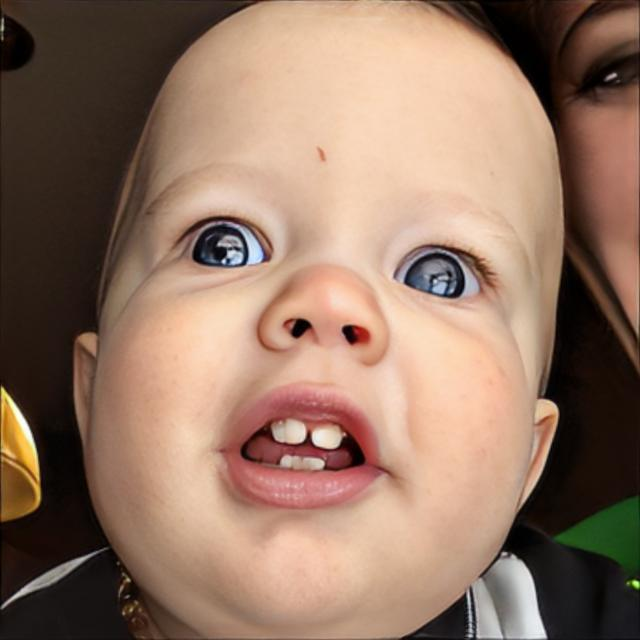surprise: (85, 1, 564, 640)
